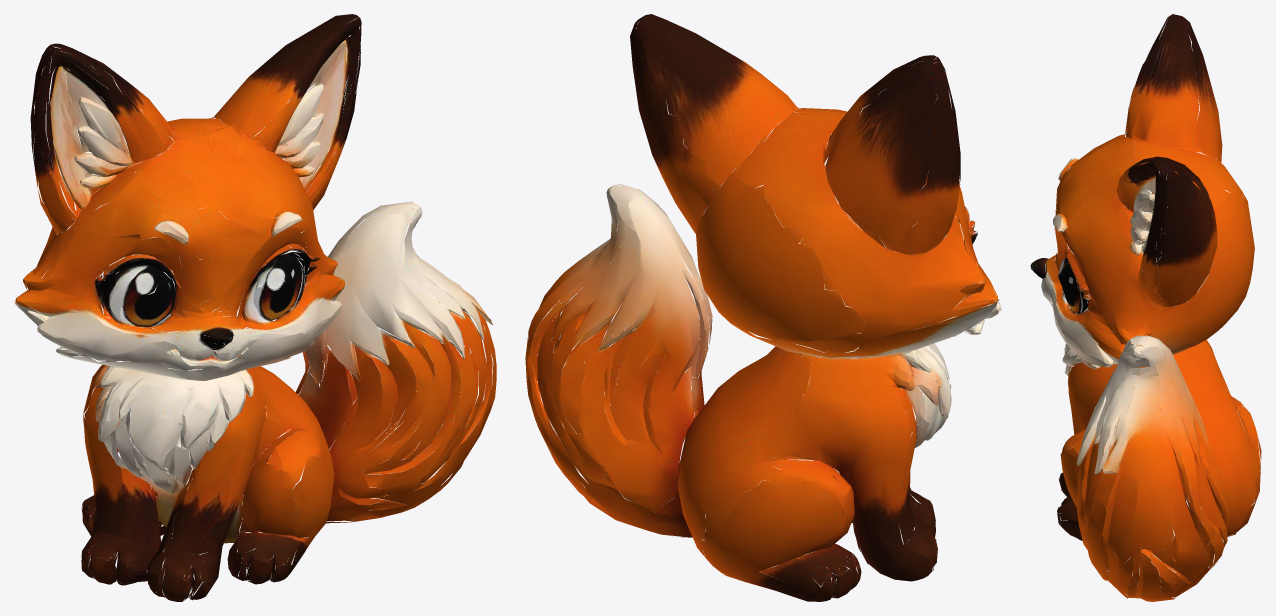
The model's file is sc_fox.glb.
The picture shows the model from 3 angles, left to right: view 1: azimuth 30°, elevation 25°; view 2: azimuth 150°, elevation 25°; view 3: azimuth 270°, elevation 25°; orthographic projection. The views are drawn at different scales.
Parts seen in each view (by area): view 1: Mesh; view 2: Mesh; view 3: Mesh.
Boxes of the visible parts, box(x1,y1,x2,y2) form: Mesh: box(14, 14, 496, 601); Mesh: box(525, 14, 1001, 601); Mesh: box(1030, 14, 1261, 601).
Bounding box in the file's own units: 1.72 × 1.9 × 0.8777.
Materials: 1 (1 with a texture image).
